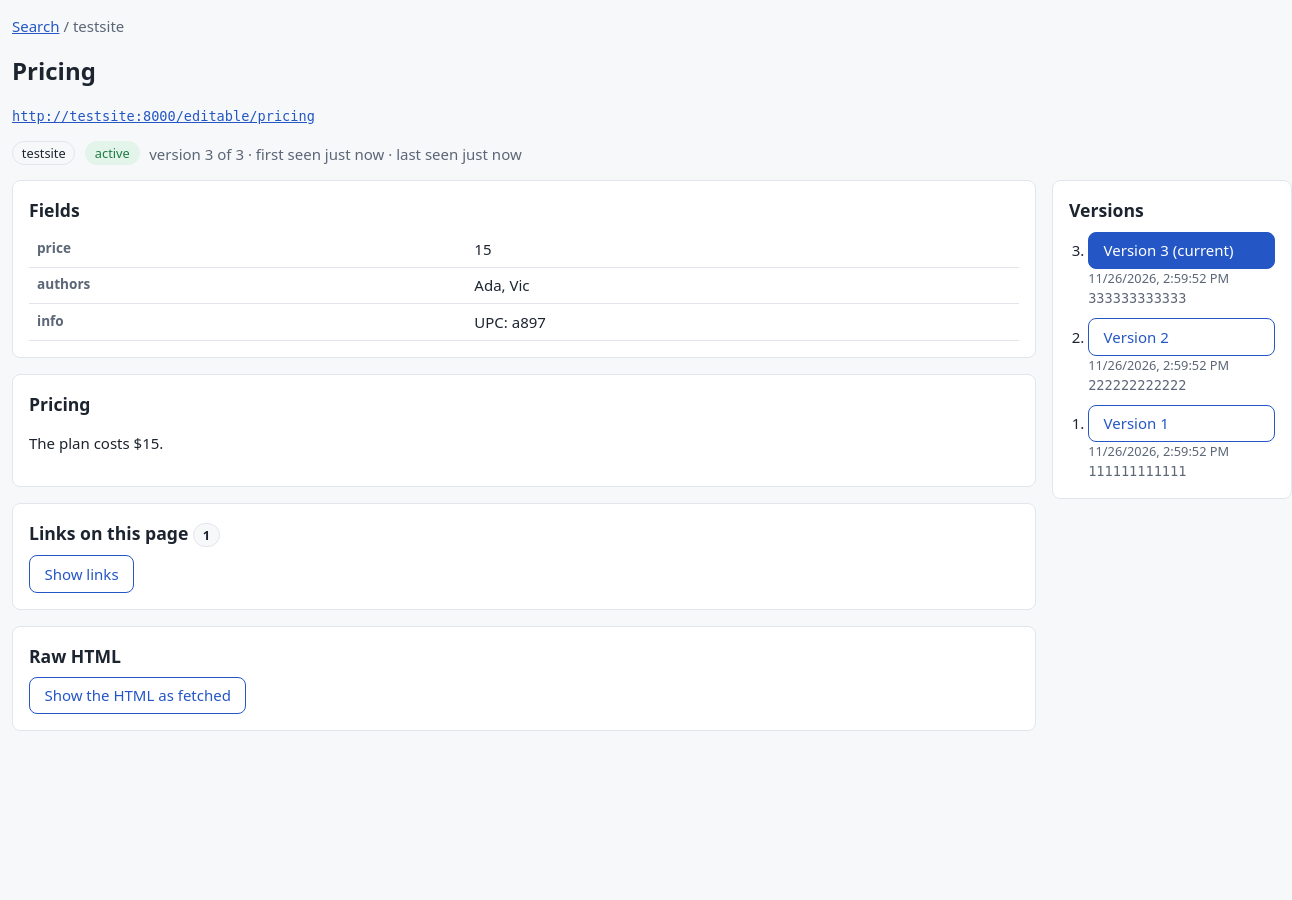
it: Document page › shows the raw HTML as text, never as a page
The image size is (1292, 900).
What coordinates should you click on to do the following:
click the button "Show the HTML as fetched"
I would click on:
 (138, 696)
Its box is [29,677,246,714].
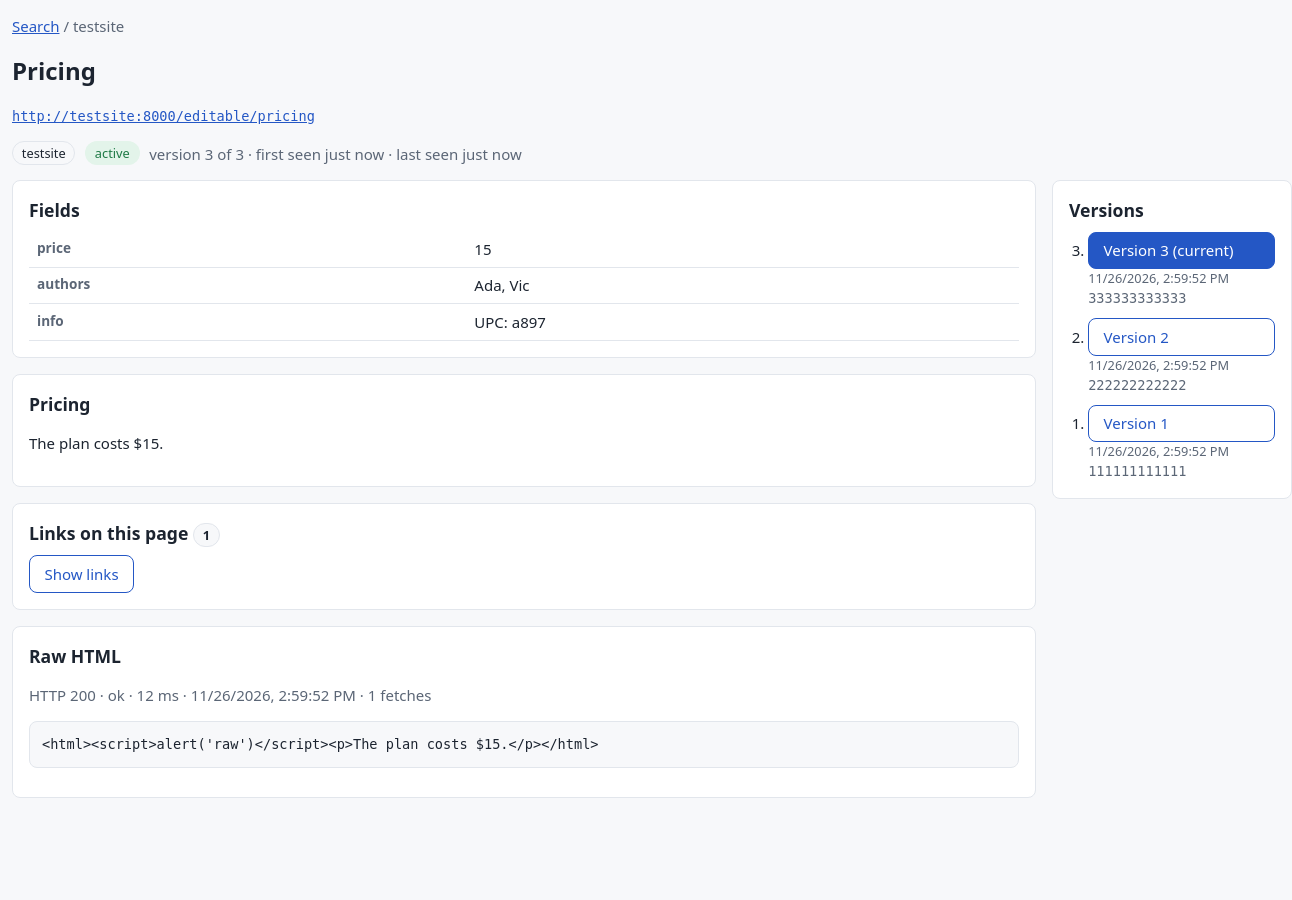
expect the text "HTTP 200 · ok · 12 ms · 11/26/2026, 2:59:52 PM · 1 fetches" is shown: met, box [29,685,431,705]
